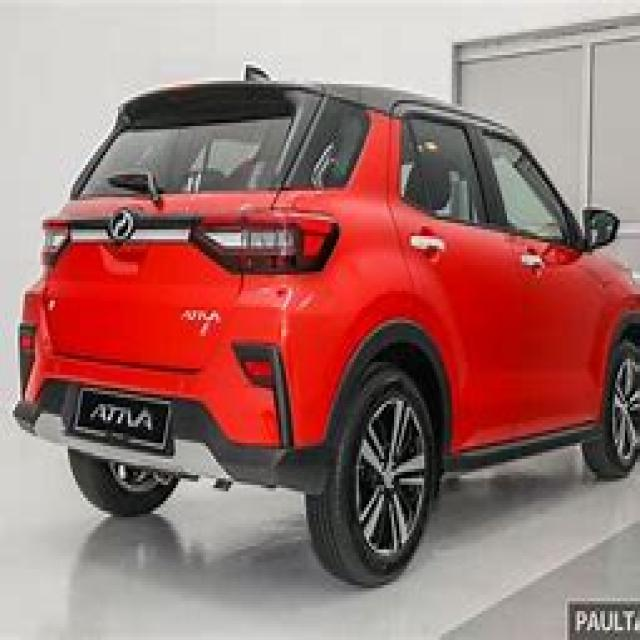PeroduaAtiva: (10, 61, 638, 588)
